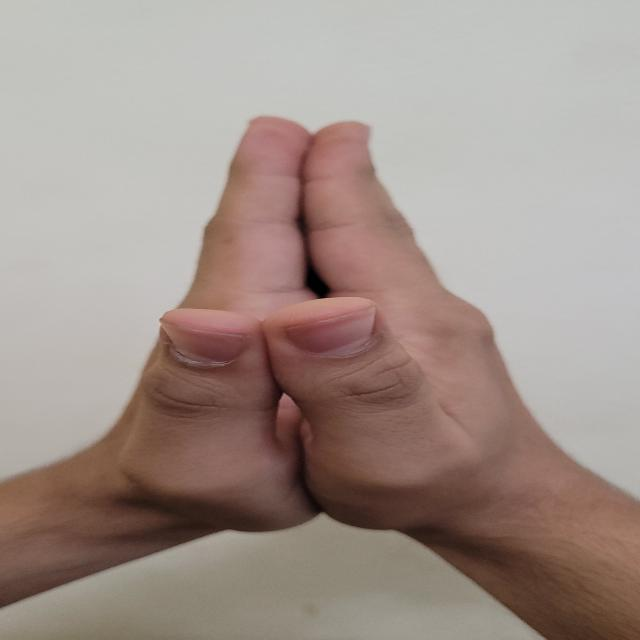Thank You: (121, 93, 640, 528)
